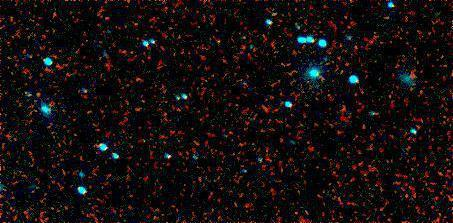star: (26, 84, 56, 114)
